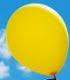Balloon: (5, 3, 68, 75)
